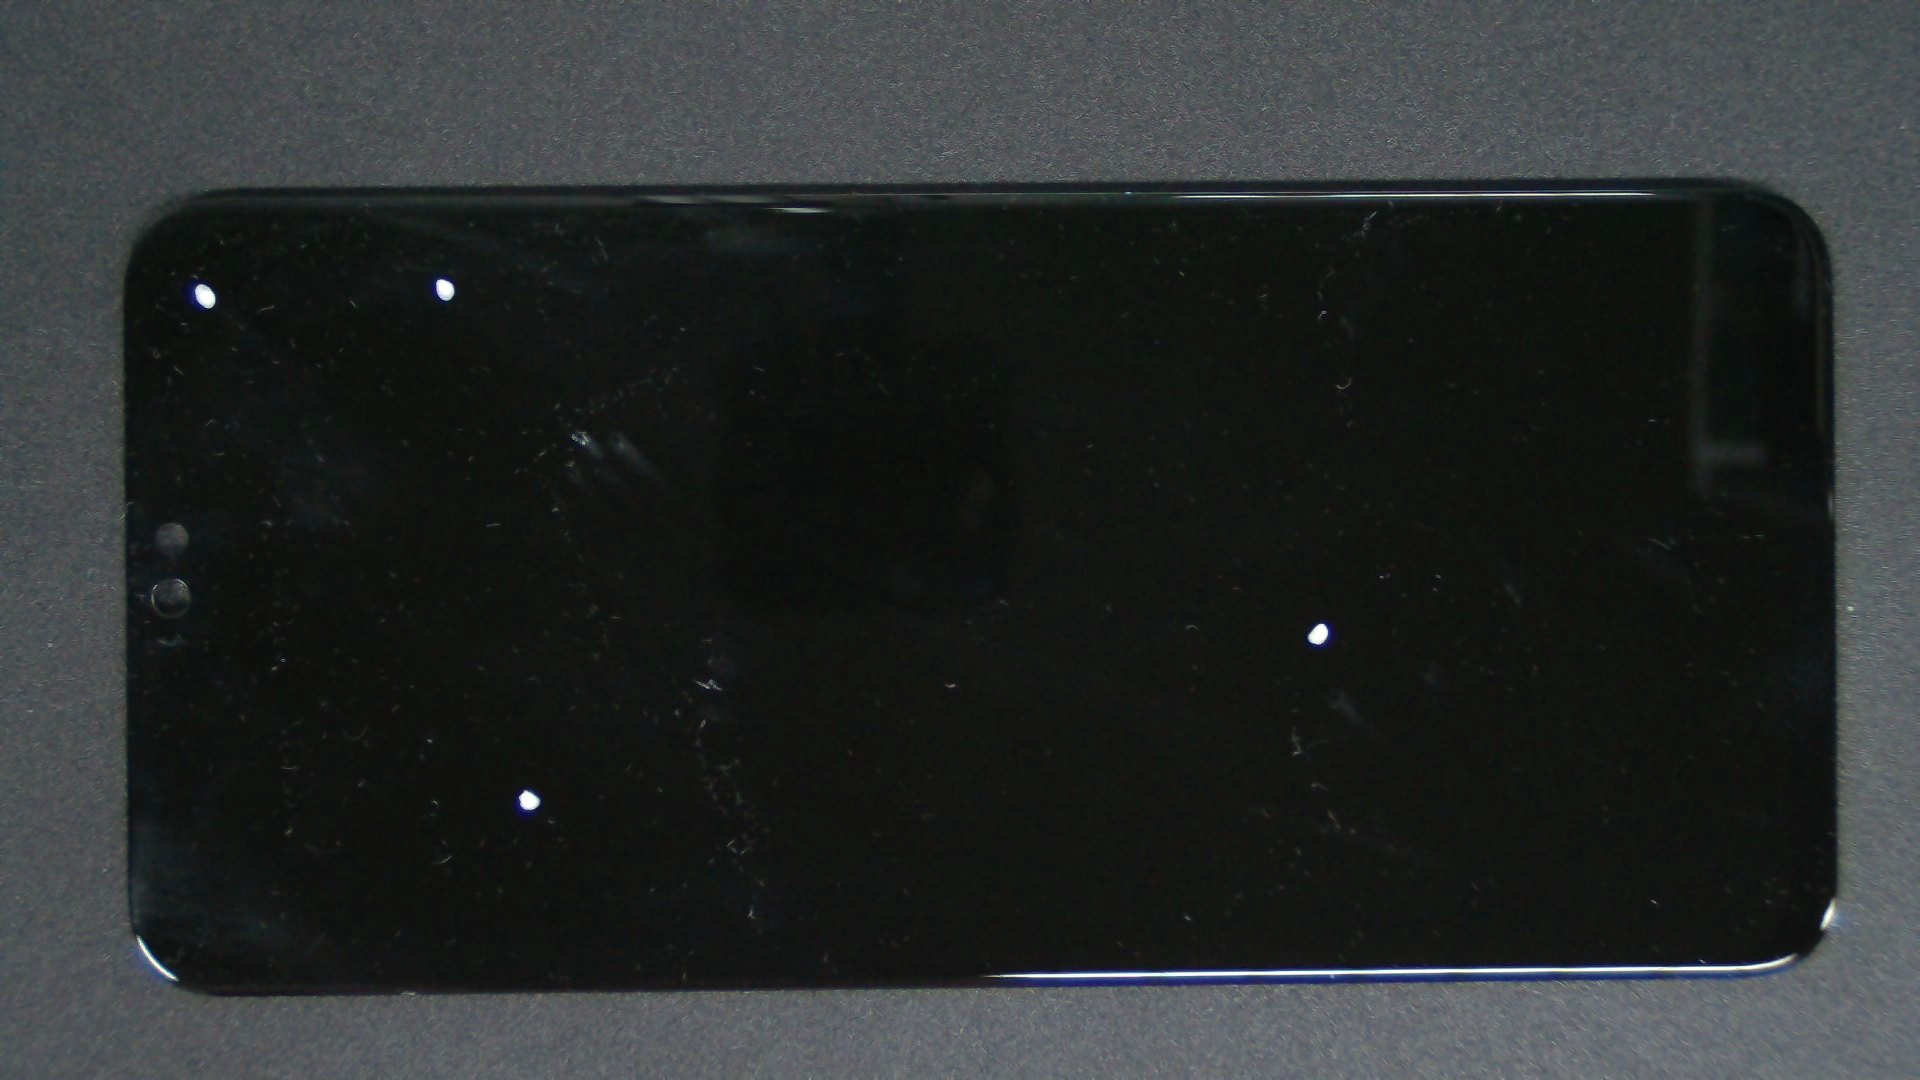oil: (661, 310, 1920, 935), (264, 393, 790, 1080), (290, 215, 866, 646), (220, 138, 658, 415), (100, 141, 299, 423)
